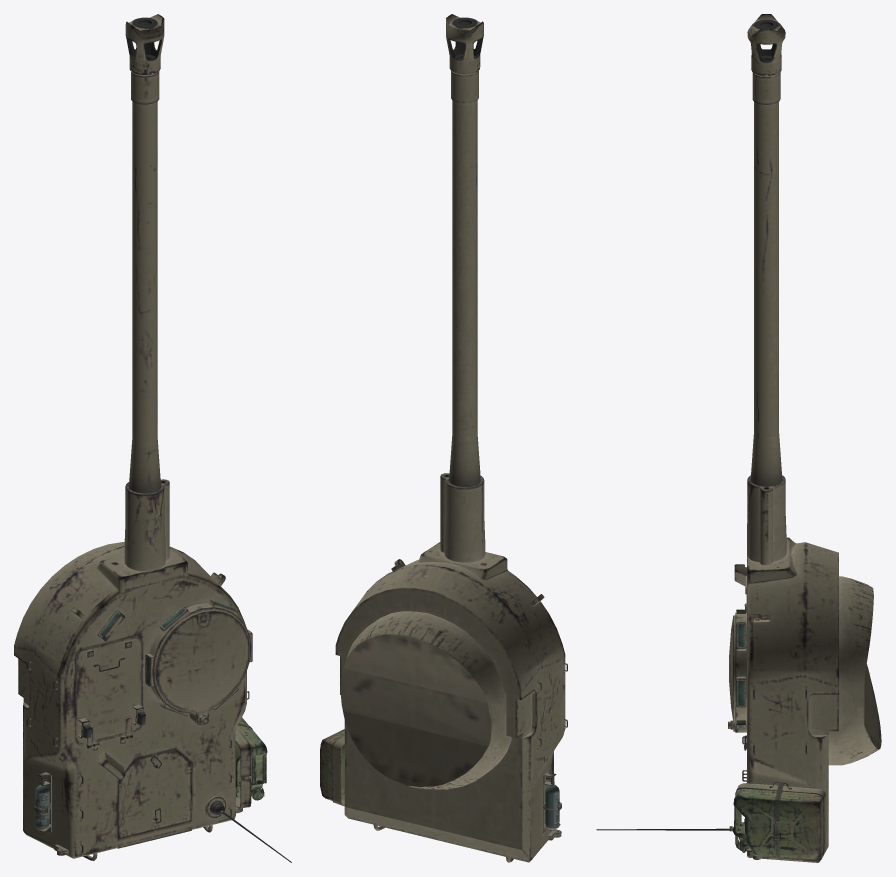
The model's file is Gun_01.glb.
3 renders of one model, left to right at view 1: azimuth 30°, elevation 25°; view 2: azimuth 150°, elevation 25°; view 3: azimuth 270°, elevation 25°, orthographic.
Visible parts, largest first — view 1: set_0_group_0; view 2: set_0_group_0; view 3: set_0_group_0.
Boxes of the visible parts, x1,y1,x2,y2 form: set_0_group_0: [14, 14, 291, 862]; set_0_group_0: [320, 14, 567, 862]; set_0_group_0: [596, 14, 881, 862].
Bounding box in the file's own units: 1.36 × 4.78 × 1.53.
Materials: 1 (1 with a texture image).
